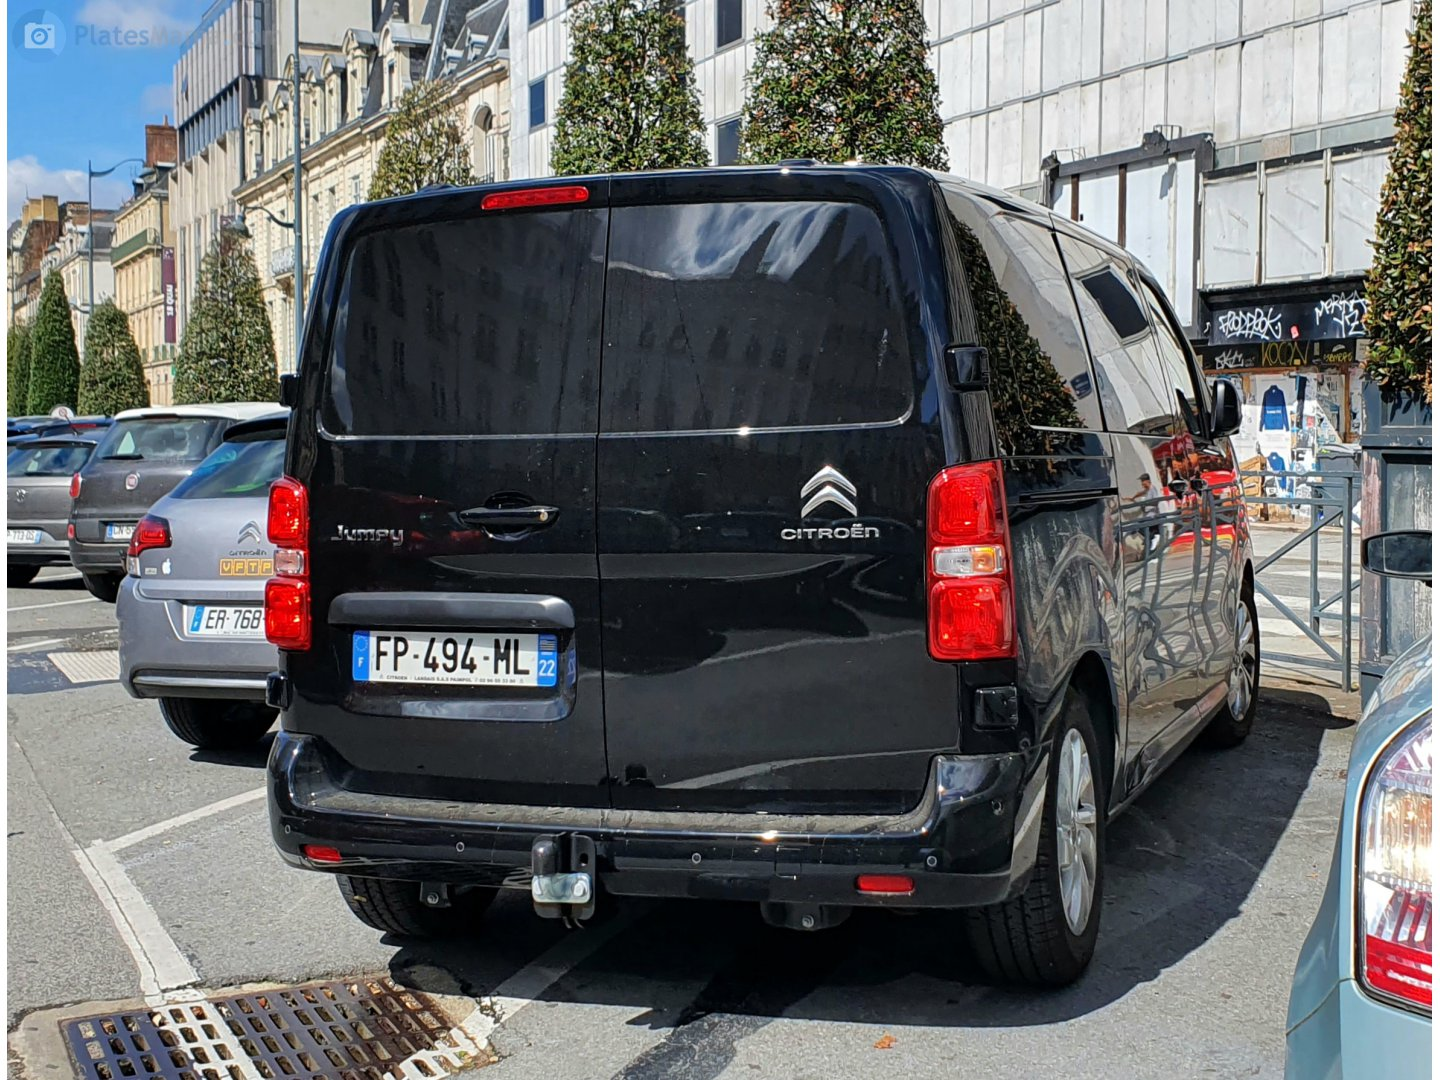licence plate: (346, 621, 561, 692)
